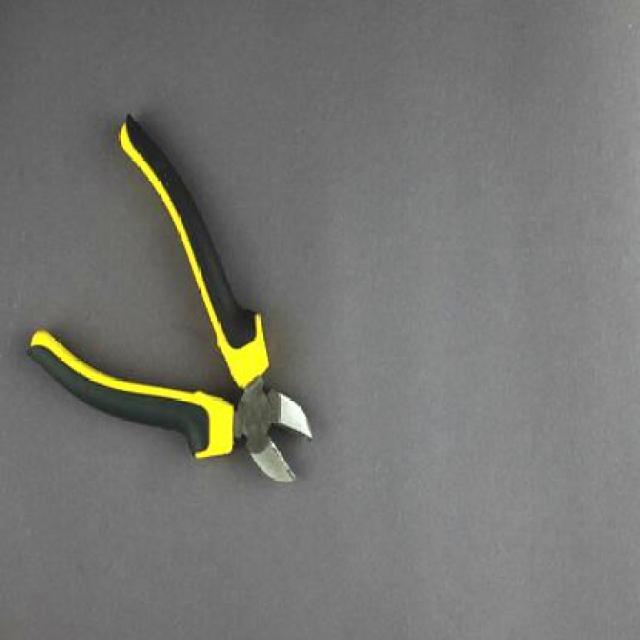pliers: (28, 111, 324, 494)
